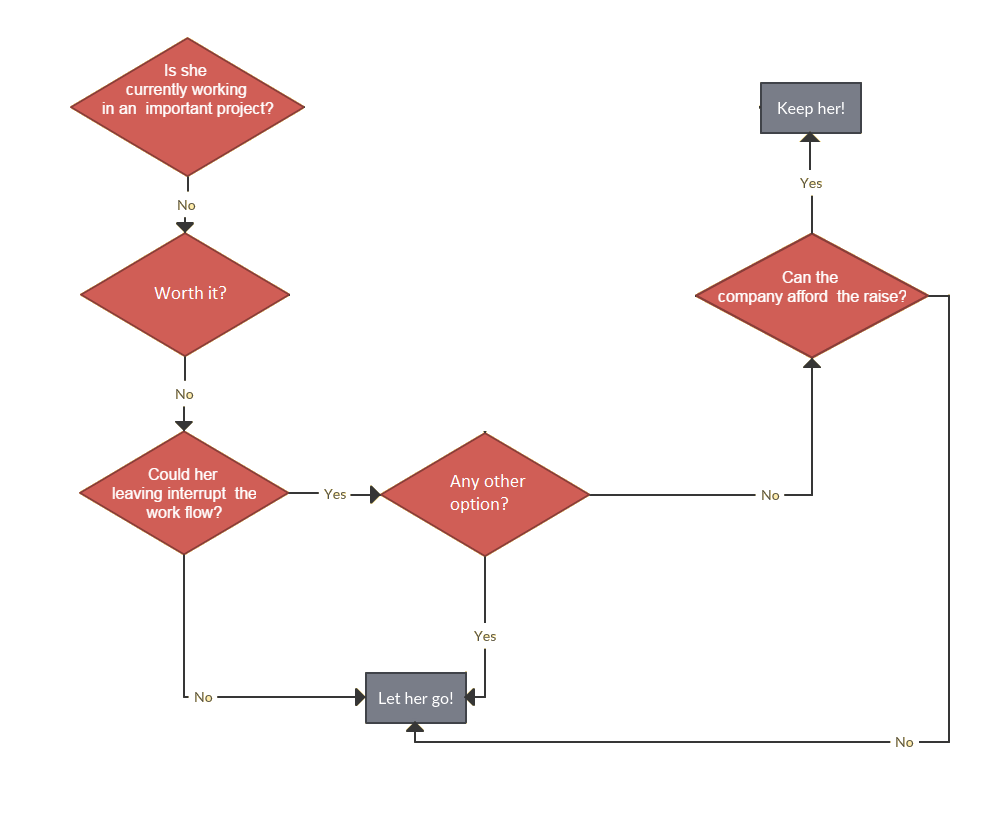arrow: (403, 289, 954, 748), (587, 357, 826, 502), (178, 549, 366, 707), (464, 552, 489, 709), (796, 128, 823, 230), (284, 483, 391, 508), (172, 352, 196, 434), (174, 173, 196, 237)
decision: (66, 34, 308, 179), (694, 232, 933, 362), (379, 427, 591, 563), (77, 429, 293, 559), (79, 232, 296, 359)
process: (362, 668, 474, 728), (757, 78, 867, 137)
text: (97, 57, 274, 122), (107, 465, 259, 522), (716, 270, 913, 309), (447, 472, 533, 518), (774, 97, 851, 120), (374, 688, 456, 709), (149, 282, 228, 303), (321, 483, 353, 502), (471, 629, 506, 644), (797, 173, 824, 192), (189, 689, 216, 708), (888, 734, 919, 750), (172, 385, 196, 404), (758, 488, 786, 503), (176, 197, 196, 215)
